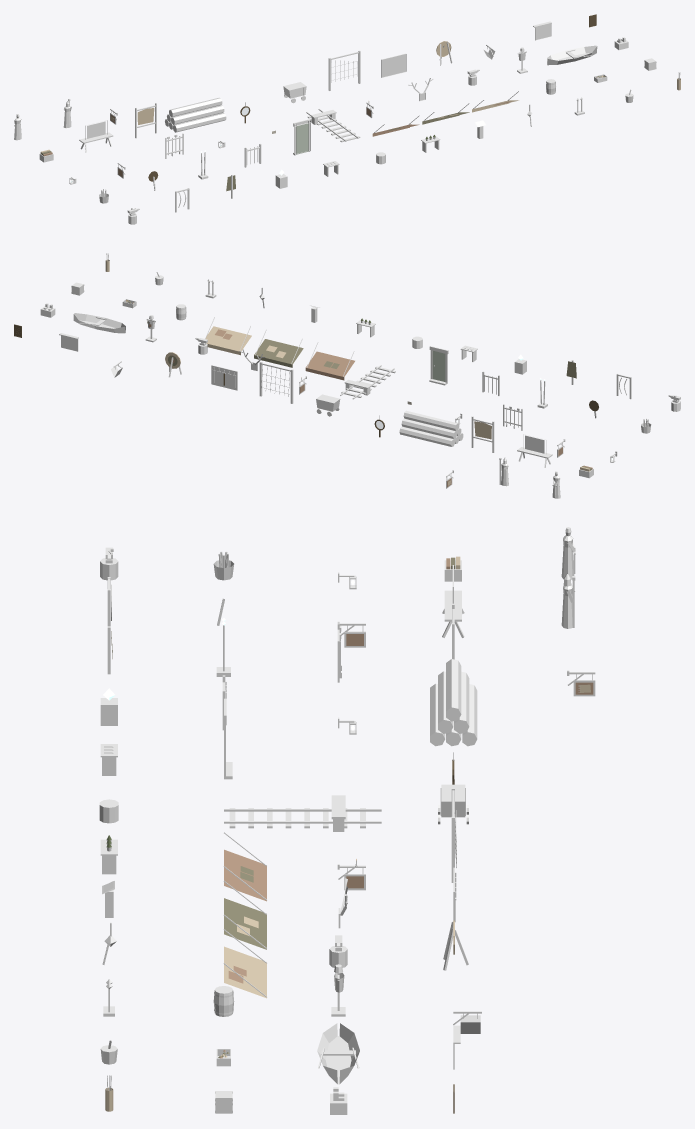
Rendered from bld_props.glb.
The picture shows the model from 3 angles, top to bottom: view 1: azimuth 30°, elevation 25°; view 2: azimuth 150°, elevation 25°; view 3: azimuth 270°, elevation 25°; orthographic projection. The views are drawn at different scales.
Parts seen in each view (by area): view 1: PROP_PROP_LogPile, PROP_PROP_Boat_4m, PROP_DOOR_Morada, PROP_PROP_FrameSaw, PROP_PROP_SwordBoard, PROP_Gremio_Mineros_Prop_Rails, PROP_PROP_NetFrame, PROP_PROP_HideRack, PROP_PROP_MineCart; view 2: PROP_PROP_LogPile, PROP_KITMESH_AWNING_Patch_A, PROP_KITMESH_AWNING_Patch_B, PROP_KITMESH_AWNING_Patch_C, PROP_DOOR_Morada, PROP_PROP_Boat_4m, PROP_PROP_FrameSaw, PROP_PROP_NetFrame, PROP_PROP_SwordBoard, PROP_PROP_HideRack, PROP_Gremio_Mineros_Prop_Rails, PROP_PROP_MineCart; view 3: PROP_PROP_LogPile, PROP_PROP_Boat_4m, PROP_KITMESH_AWNING_Patch_C, PROP_KITMESH_AWNING_Patch_A, PROP_KITMESH_AWNING_Patch_B, PROP_Gremio_Mineros_Prop_Rails, PROP_PROP_MineCart.
Part boxes in pixels (x1=…): PROP_PROP_LogPile: x1=165, y1=97, x2=226, y2=132; PROP_PROP_Boat_4m: x1=547, y1=45, x2=597, y2=65; PROP_DOOR_Morada: x1=293, y1=119, x2=311, y2=155; PROP_PROP_FrameSaw: x1=79, y1=120, x2=113, y2=152; PROP_PROP_SwordBoard: x1=381, y1=53, x2=406, y2=77; PROP_Gremio_Mineros_Prop_Rails: x1=306, y1=109, x2=360, y2=142; PROP_PROP_NetFrame: x1=328, y1=50, x2=360, y2=90; PROP_PROP_HideRack: x1=135, y1=103, x2=156, y2=138; PROP_PROP_MineCart: x1=283, y1=82, x2=306, y2=103; PROP_PROP_LogPile: x1=399, y1=410, x2=463, y2=446; PROP_KITMESH_AWNING_Patch_A: x1=305, y1=342, x2=354, y2=380; PROP_KITMESH_AWNING_Patch_B: x1=254, y1=329, x2=303, y2=367; PROP_KITMESH_AWNING_Patch_C: x1=205, y1=317, x2=251, y2=355; PROP_DOOR_Morada: x1=429, y1=346, x2=448, y2=385; PROP_PROP_Boat_4m: x1=73, y1=313, x2=125, y2=333; PROP_PROP_FrameSaw: x1=517, y1=434, x2=552, y2=467; PROP_PROP_NetFrame: x1=259, y1=362, x2=293, y2=403; PROP_PROP_SwordBoard: x1=211, y1=365, x2=237, y2=390; PROP_PROP_HideRack: x1=471, y1=416, x2=494, y2=452; PROP_Gremio_Mineros_Prop_Rails: x1=340, y1=365, x2=395, y2=399; PROP_PROP_MineCart: x1=316, y1=394, x2=340, y2=416; PROP_PROP_LogPile: x1=430, y1=659, x2=477, y2=746; PROP_PROP_Boat_4m: x1=317, y1=1023, x2=359, y2=1084; PROP_KITMESH_AWNING_Patch_C: x1=223, y1=929, x2=266, y2=998; PROP_KITMESH_AWNING_Patch_A: x1=223, y1=832, x2=266, y2=901; PROP_KITMESH_AWNING_Patch_B: x1=223, y1=880, x2=266, y2=949; PROP_Gremio_Mineros_Prop_Rails: x1=224, y1=808, x2=381, y2=828; PROP_PROP_MineCart: x1=438, y1=784, x2=468, y2=824.
Bounding box in the file's own units: 44.8 × 3.4 × 17.28.
Materials: 16 (11 with a texture image).
